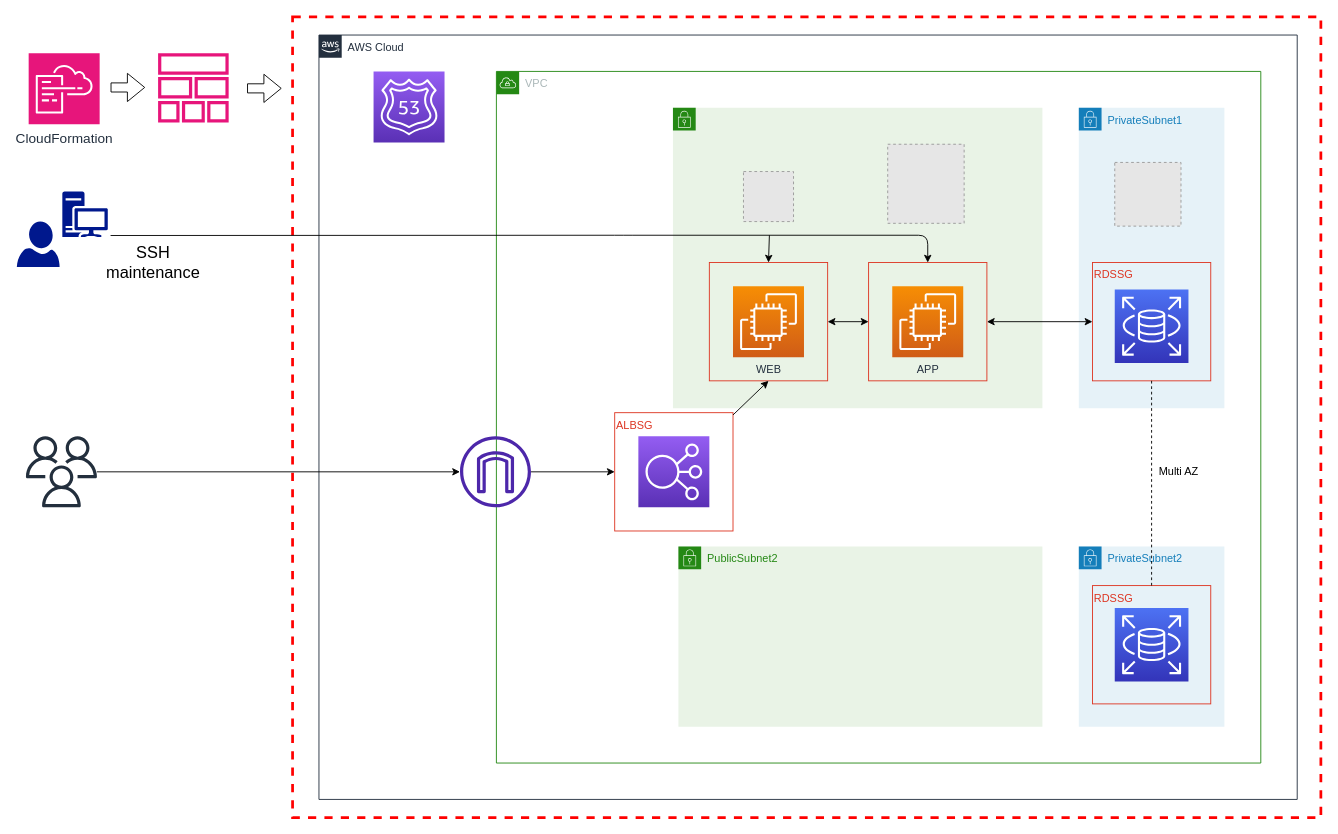
This 1338x834 diagram has some shape labels left out. Grey dashed boxes stand in for pictures. Here are the shapes that lost their labels. From the top down, the box of each, then its label:
(157, 53, 228, 122): Stack
(373, 71, 445, 142): Private Hosted Zone (app.instance.privatelocal)
(672, 107, 1042, 408): PublicSubnet1
(708, 262, 828, 381): EC2WEBSG
(868, 262, 987, 381): EC2APPSG
